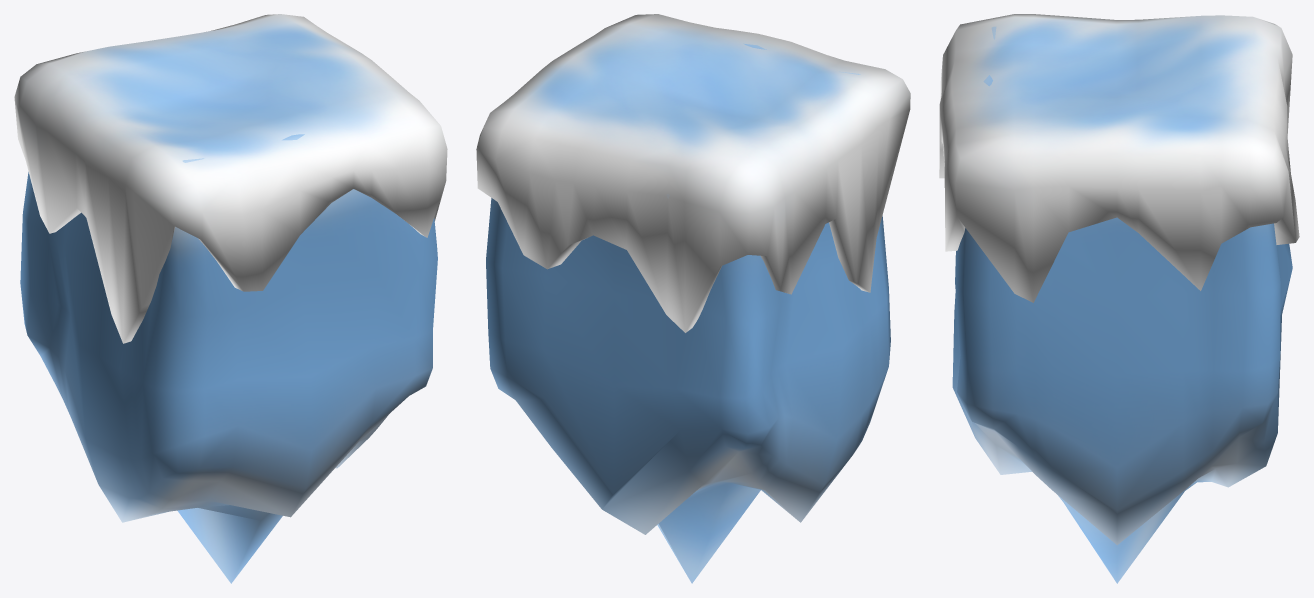
File: ice_3.fbx
3 renders of one model, left to right at view 1: azimuth 30°, elevation 25°; view 2: azimuth 150°, elevation 25°; view 3: azimuth 270°, elevation 25°, orthographic. The views are drawn at different scales.
Parts seen in each view (by area): view 1: ice_3; view 2: ice_3; view 3: ice_3.
Part boxes in pixels (box(x1,y1,x2,y2)): ice_3: box(14, 14, 447, 583); ice_3: box(476, 14, 910, 583); ice_3: box(939, 14, 1299, 583).
Size of the model in its own units: 1187 by 1860 by 1180.
